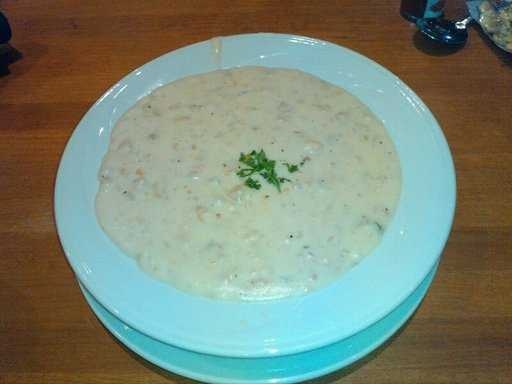soup: (82, 74, 398, 291)
